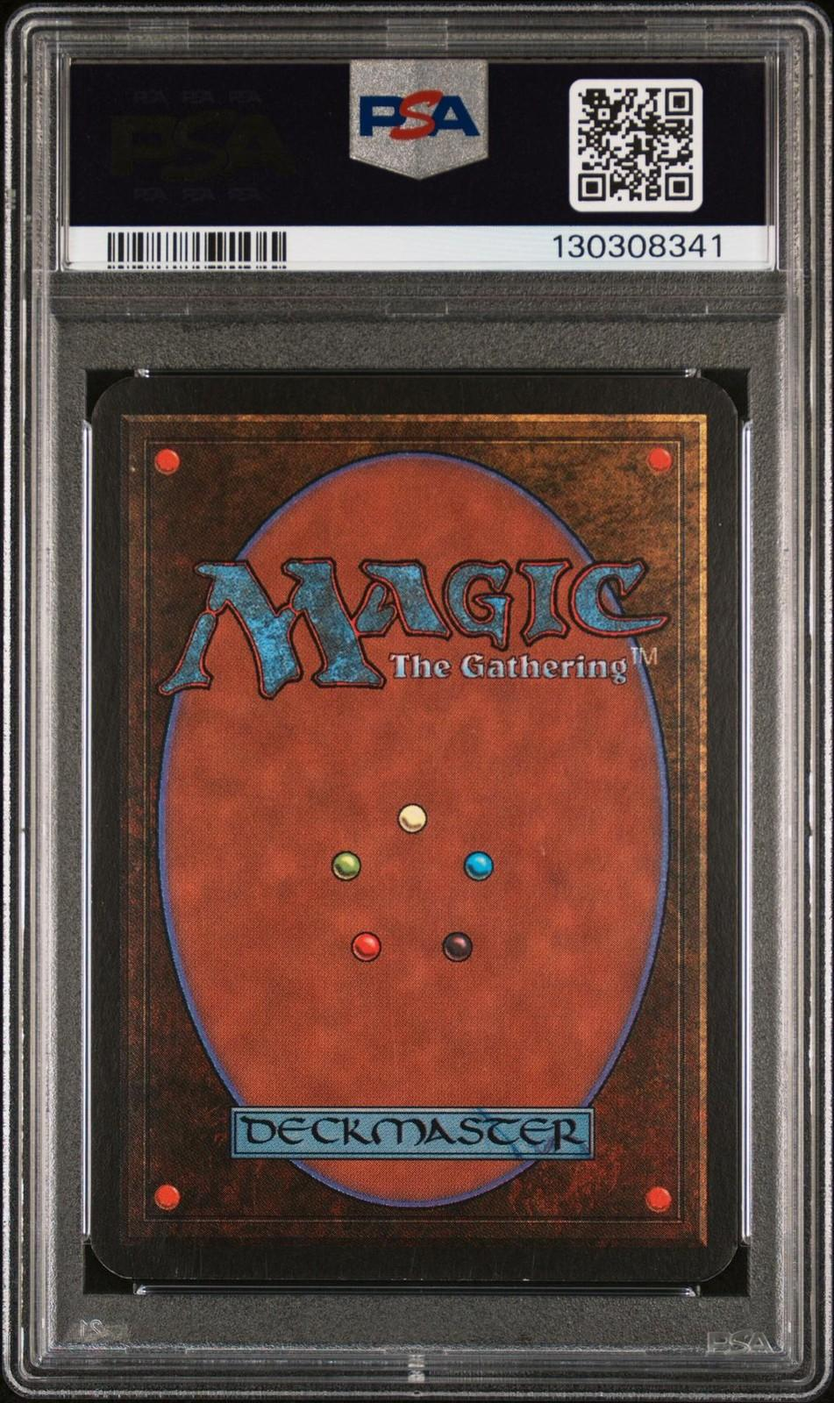card-2UtV: (90, 376, 738, 1282)
